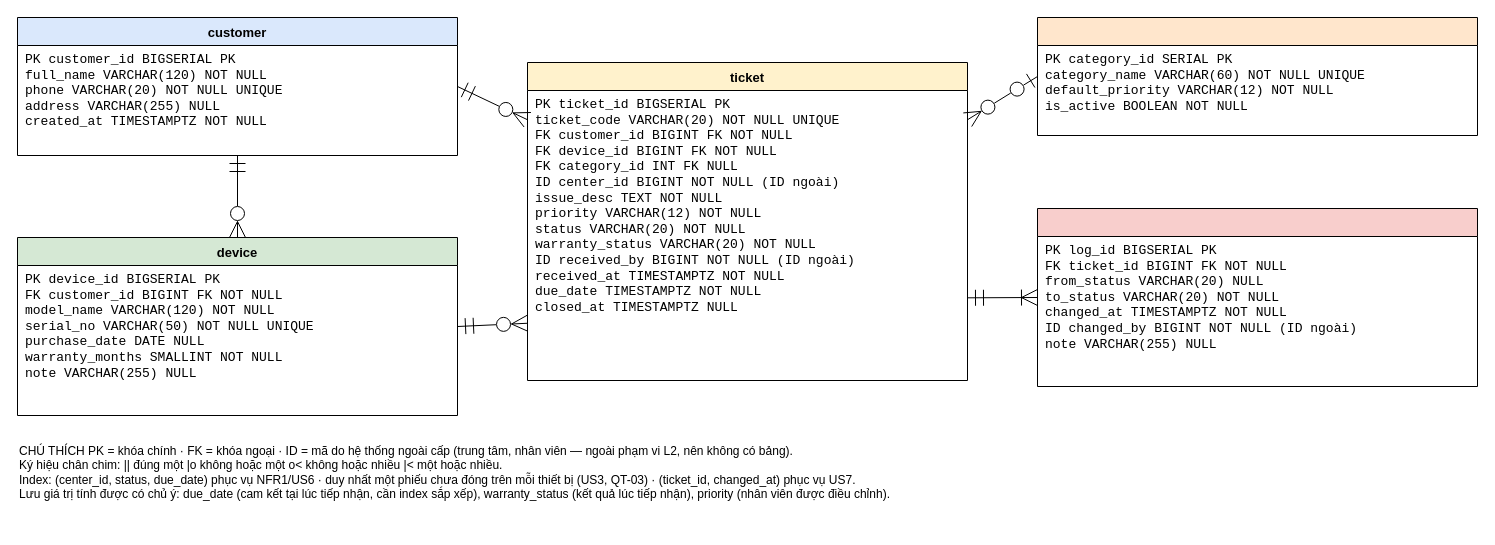
Some shapes in this 1495 by 545 pixel diagram are drawn without their labels. Here are the shapes that lost their labels. From the top down, the box of each, then its label:
(1036, 16, 1478, 136): issue_category
(1036, 208, 1478, 386): ticket_status_log
